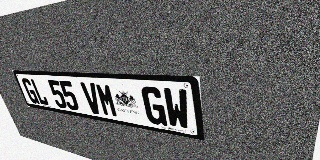5: (58, 80, 80, 111), (47, 80, 68, 109)
G: (140, 86, 167, 126), (21, 78, 40, 104)
L: (30, 79, 49, 106)
M: (95, 83, 119, 118)
V: (80, 82, 103, 115)
W: (162, 87, 191, 130)
